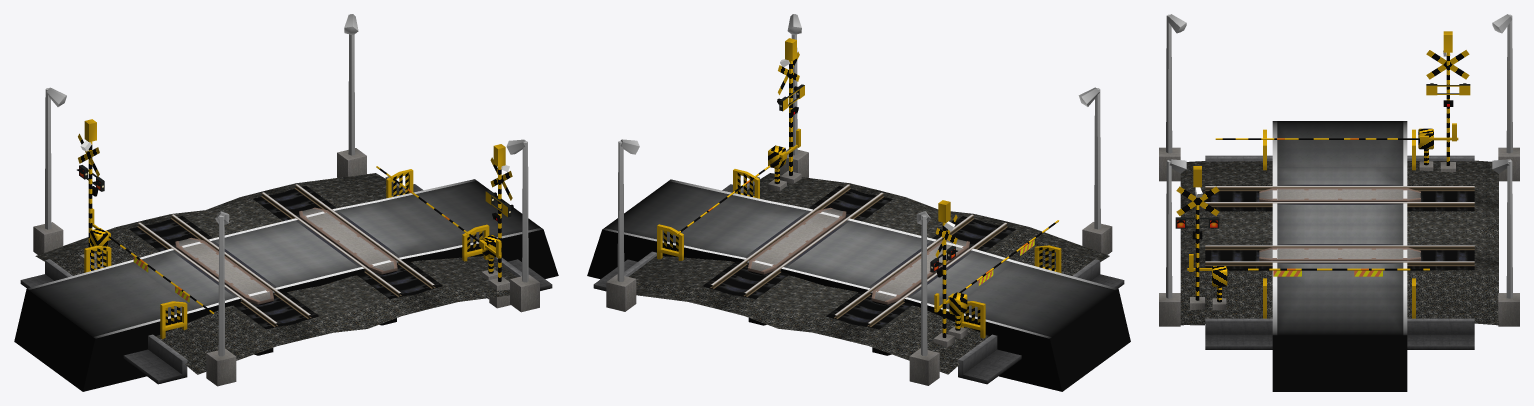
Rendered from TOB_2RAIL_25_HUMIKIRI.glb.
The picture shows the model from 3 angles, left to right: view 1: azimuth 30°, elevation 25°; view 2: azimuth 150°, elevation 25°; view 3: azimuth 270°, elevation 25°; orthographic projection.
Parts seen in each view (by area): view 1: obj3, J08, Humi (×2), J00, obj5, obj1, BAR3_Long1; view 2: obj3, Humi (×2), J00, J08, obj1, obj5, BAR3_Long1; view 3: obj3, Humi (×2), J08, J00, BAR3_Long1 (×2), OBI_Long1, obj5, obj1.
Part boxes in pixels (x1,y1,x2,y2): obj3: (14,173,558,391); J08: (206,139,539,386); Humi (×2): (77,119,513,308); J00: (33,14,366,254); obj5: (160,224,489,339); obj1: (84,169,413,272); BAR3_Long1: (376,166,501,258); obj3: (587,173,1130,391); Humi (×2): (768,38,967,347); J00: (606,139,939,385); J08: (780,14,1112,254); obj1: (657,224,985,338); obj5: (733,169,1061,272); BAR3_Long1: (676,128,800,234); obj3: (1180,121,1498,391); Humi (×2): (1175,31,1470,325); J08: (1159,14,1186,326); J00: (1492,14,1519,326); BAR3_Long1 (×2): (1187,123,1458,271); OBI_Long1: (1273,270,1382,276); obj5: (1263,129,1266,318); obj1: (1412,129,1415,318).
Bounding box in the file's own units: 50 × 19.59 × 33.48.
Materials: 42 (39 with a texture image).
